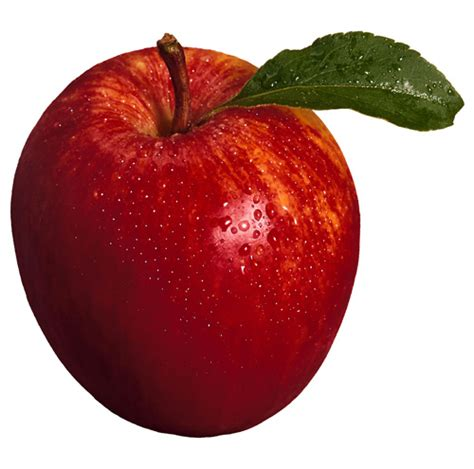apple: (11, 45, 368, 440)
